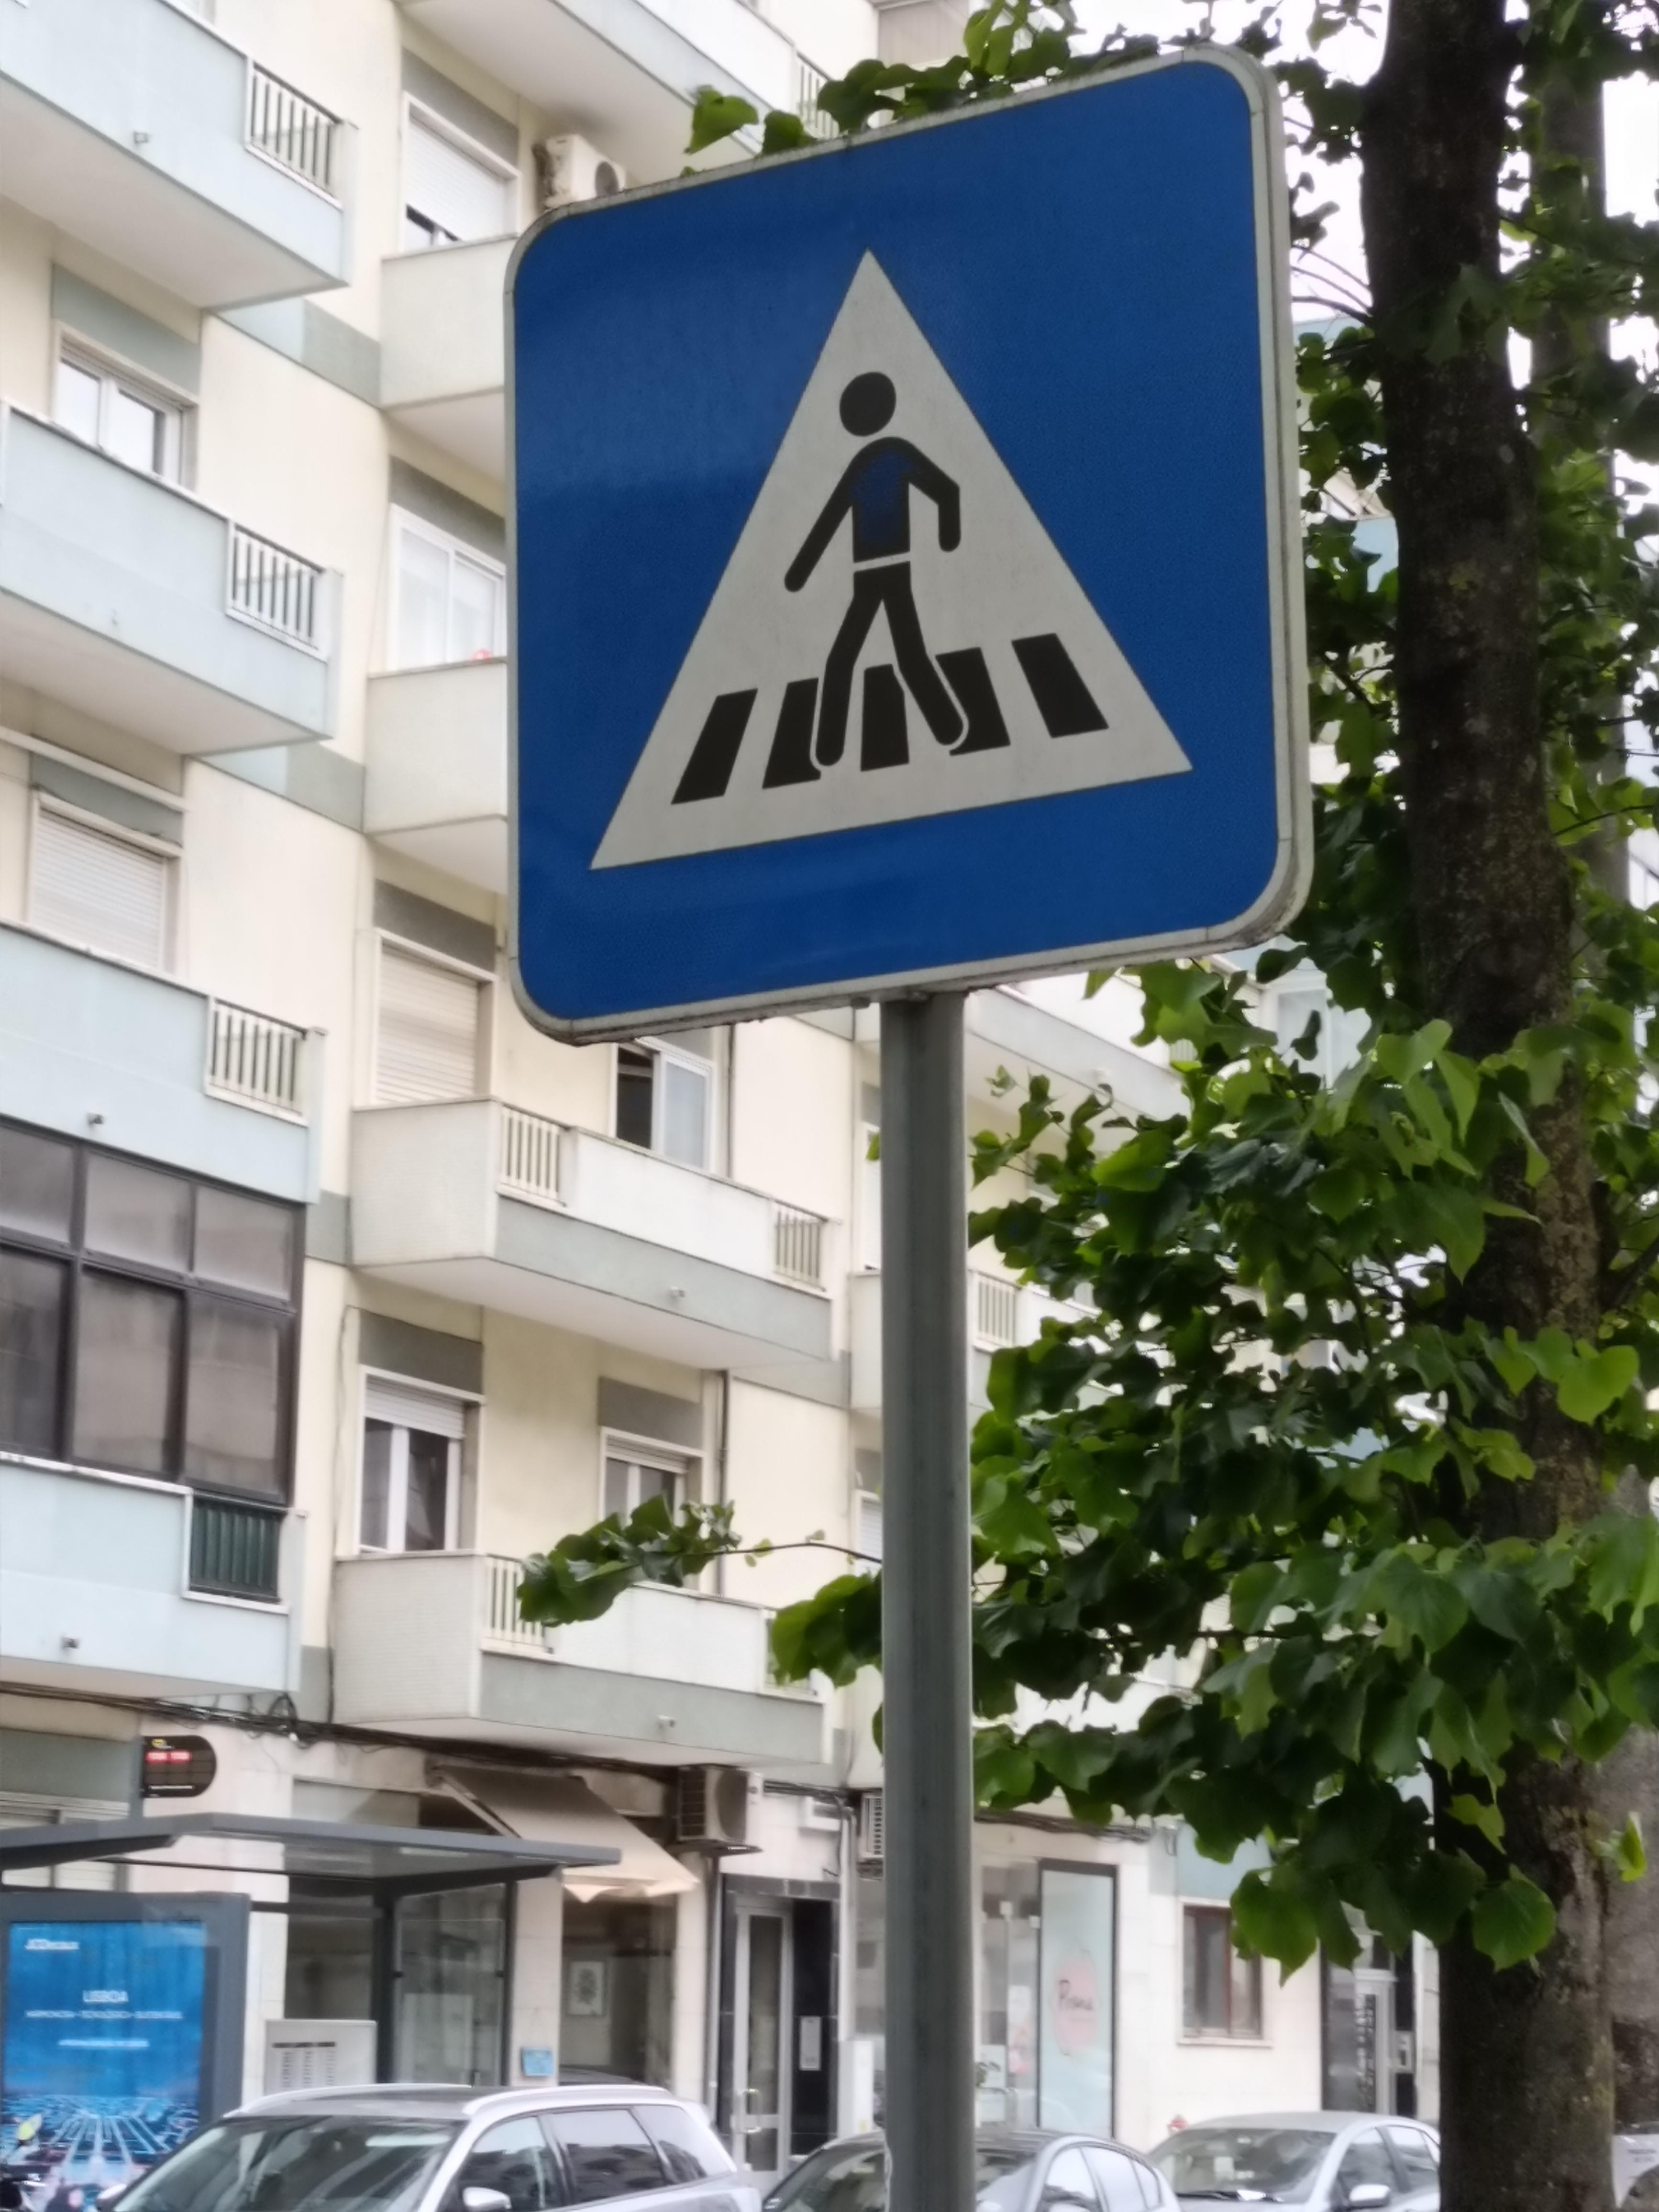Passagem para peoes: (466, 41, 1329, 1053)
